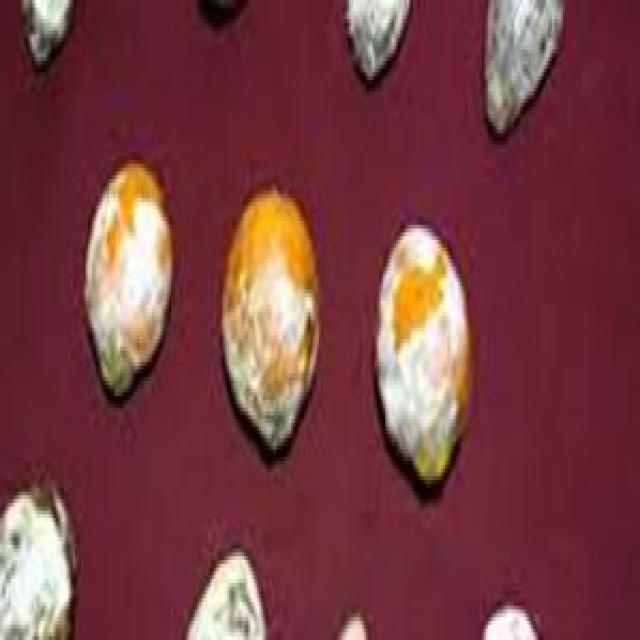damaged: (375, 221, 477, 507), (220, 187, 321, 465), (81, 156, 178, 411)
